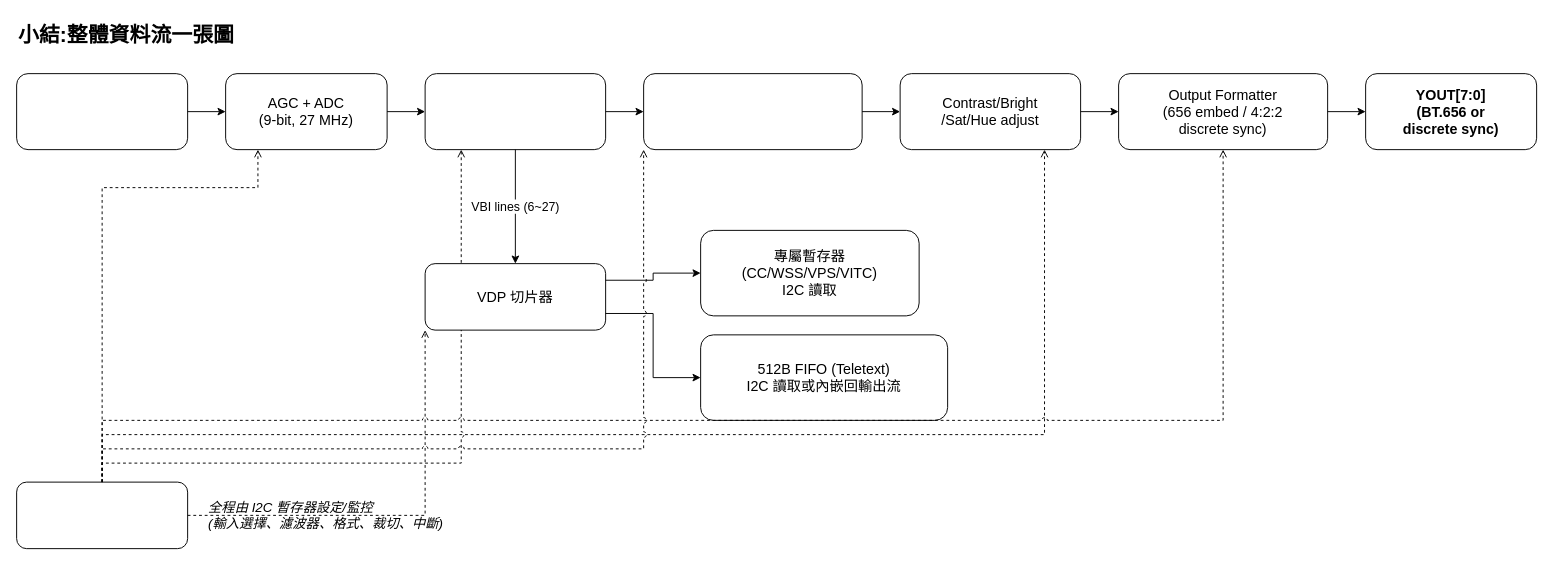
Image size: 1553x565. Some labels were removed from this diagram. Here are the shapes that lost their labels. From the top down, the centre of each, then its label:
At point 102,111: "Composite/S-Video (AIP1A/1B)".
At point 515,111: "Y/C 分離 (4-line Comb Filter)".
At point 752,111: "Luma/Chroma Processing (peaking, color killer)".
At point 102,515: "I2C Host".
